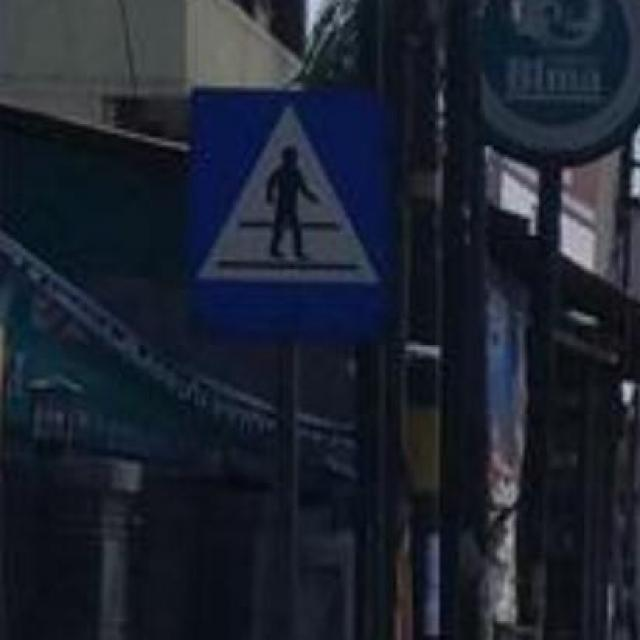traffic sign: (191, 88, 394, 337)
